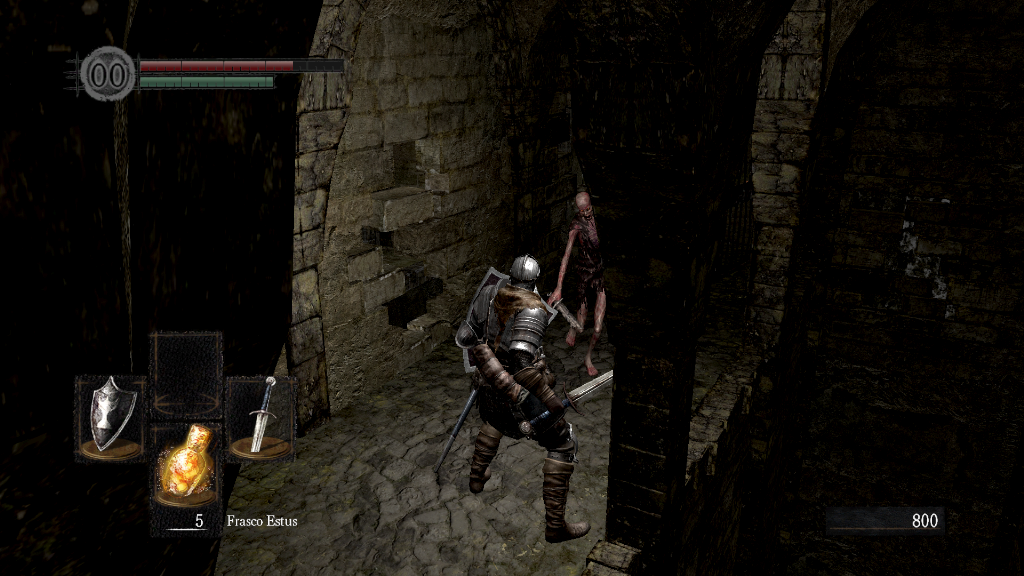health: (138, 58, 343, 71)
hollow: (544, 189, 603, 380)
humanity: (80, 45, 136, 102)
player: (433, 253, 614, 543)
souls: (825, 506, 945, 536)
stamina: (138, 74, 274, 88)
